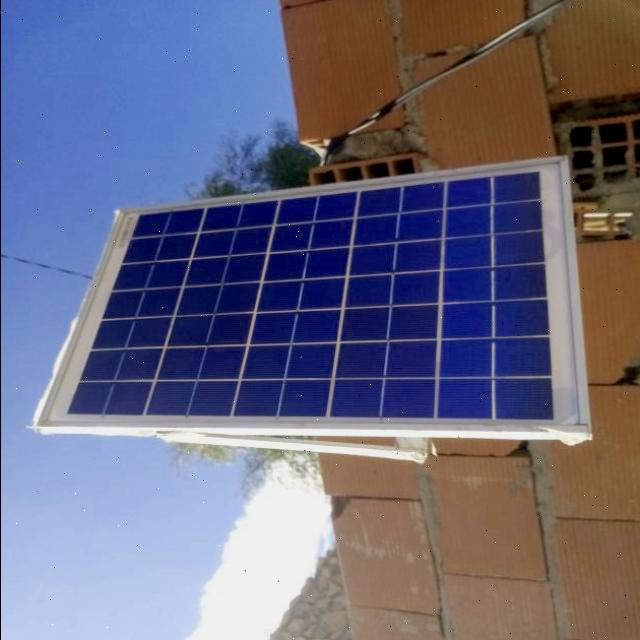Normal Solar Panel: (36, 160, 582, 434)
